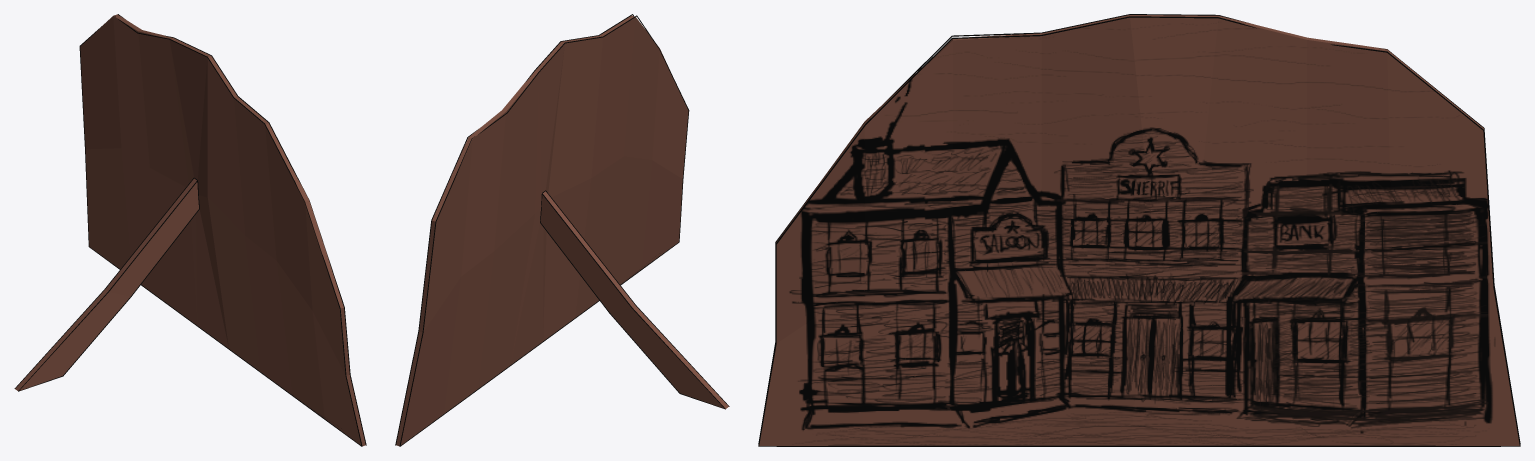
File: carboard_old.glb
3 views of the same model, side by side, from view 1: azimuth 30°, elevation 25°; view 2: azimuth 150°, elevation 25°; view 3: azimuth 270°, elevation 25° (orthographic). The views are drawn at different scales.
Parts seen in each view (by area): view 1: Cube; view 2: Cube; view 3: Cube.
Boxes of the visible parts, x1,y1,x2,y2 form: Cube: [14, 14, 366, 446]; Cube: [395, 14, 729, 446]; Cube: [758, 14, 1520, 446].
Bounding box in the file's own units: 5.12 × 7.37 × 12.05.
2 materials, 1 textured.
